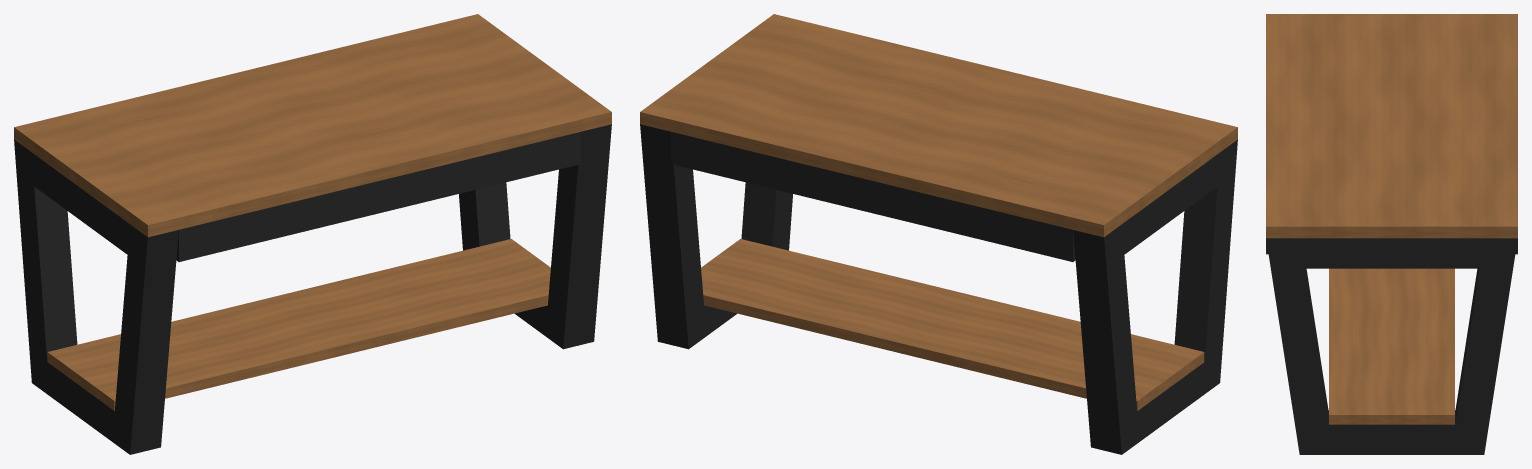
The model's file is mesa-living-nord-estante-roble-negro-8cm.glb.
3 renders of one model, left to right at view 1: azimuth 30°, elevation 25°; view 2: azimuth 150°, elevation 25°; view 3: azimuth 270°, elevation 25°, orthographic. The views are drawn at different scales.
Visible parts, largest first — view 1: Tapa de madera maciza 120 x 60 x 3 cm, Patas inclinadas con cortes a inglete, Estante inferior de madera de 120 cm (proporción aproximada), Larguero longitudinal superior de hierro 8 x 8 mm, Travesaño superior del trapecio, perfil 8 cm, Travesaño inferior del trapecio, perfil 8 cm (×2); view 2: Tapa de madera maciza 120 x 60 x 3 cm, Patas inclinadas con cortes a inglete, Estante inferior de madera de 120 cm (proporción aproximada), Larguero longitudinal superior de hierro 8 x 8 mm, Travesaño superior del trapecio, perfil 8 cm, Travesaño inferior del trapecio, perfil 8 cm; view 3: Tapa de madera maciza 120 x 60 x 3 cm, Estante inferior de madera de 120 cm (proporción aproximada), Patas inclinadas con cortes a inglete, Travesaño superior del trapecio, perfil 8 cm, Travesaño inferior del trapecio, perfil 8 cm.
Boxes of the visible parts, bbox=[...] form: Tapa de madera maciza 120 x 60 x 3 cm: bbox=[14, 14, 611, 237]; Patas inclinadas con cortes a inglete: bbox=[14, 124, 611, 454]; Estante inferior de madera de 120 cm (proporción aproximada): bbox=[47, 239, 550, 410]; Larguero longitudinal superior de hierro 8 x 8 mm: bbox=[176, 132, 580, 261]; Travesaño superior del trapecio, perfil 8 cm: bbox=[32, 153, 138, 262]; Travesaño inferior del trapecio, perfil 8 cm (×2): bbox=[47, 305, 554, 446]; Tapa de madera maciza 120 x 60 x 3 cm: bbox=[640, 14, 1237, 237]; Patas inclinadas con cortes a inglete: bbox=[640, 124, 1237, 454]; Estante inferior de madera de 120 cm (proporción aproximada): bbox=[701, 239, 1204, 410]; Larguero longitudinal superior de hierro 8 x 8 mm: bbox=[671, 132, 1075, 261]; Travesaño superior del trapecio, perfil 8 cm: bbox=[1113, 146, 1228, 254]; Travesaño inferior del trapecio, perfil 8 cm: bbox=[1137, 362, 1204, 441]; Tapa de madera maciza 120 x 60 x 3 cm: bbox=[1266, 14, 1517, 238]; Estante inferior de madera de 120 cm (proporción aproximada): bbox=[1329, 268, 1454, 424]; Patas inclinadas con cortes a inglete: bbox=[1266, 238, 1517, 454]; Travesaño superior del trapecio, perfil 8 cm: bbox=[1283, 238, 1500, 268]; Travesaño inferior del trapecio, perfil 8 cm: bbox=[1316, 410, 1467, 454].
Size of the model in its own units: 1.2 by 0.6 by 0.6.
Materials: 2 (1 with a texture image).
